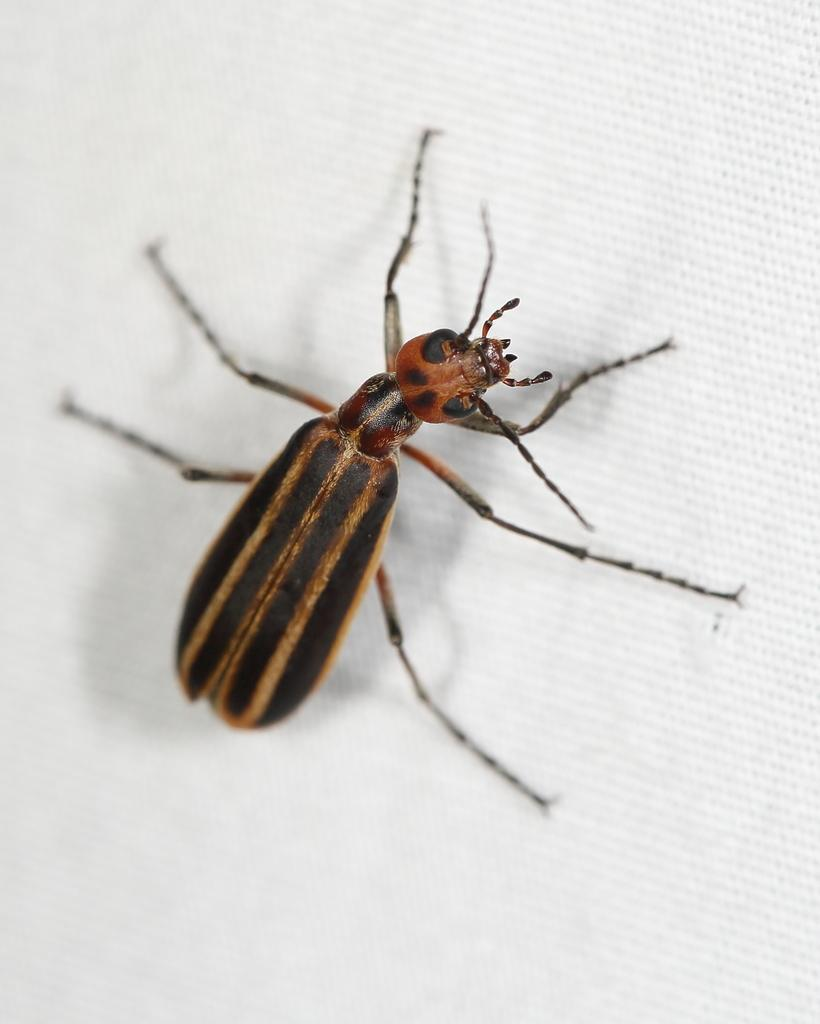blister_beetle: (0, 45, 820, 895)
